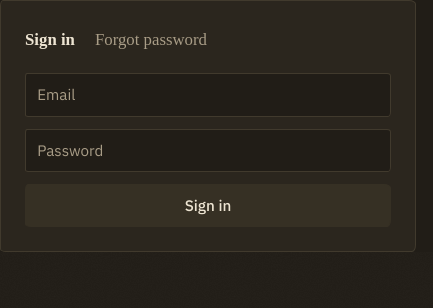
it: AuthPanel › shows the server's message when sign-in fails
Type "alice@example.com" into the field with placeholder "Email" at (208, 95), box [25,73,391,117]
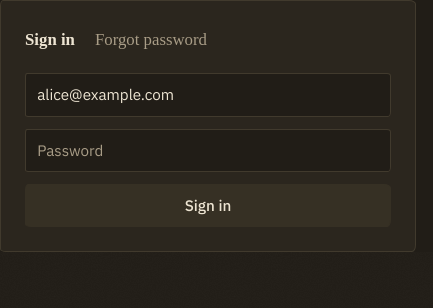
Type "wrongpassword" into the password field with placeholder "Password" at (208, 150), box [25,128,391,172]
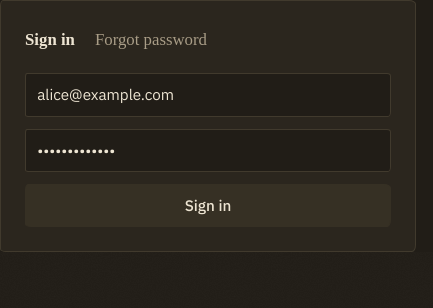
Submit the form, box [25,73,391,227]
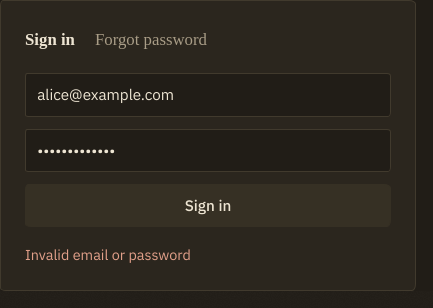
Check: the message "Invalid email or password" is shown, box [25,245,191,264]
